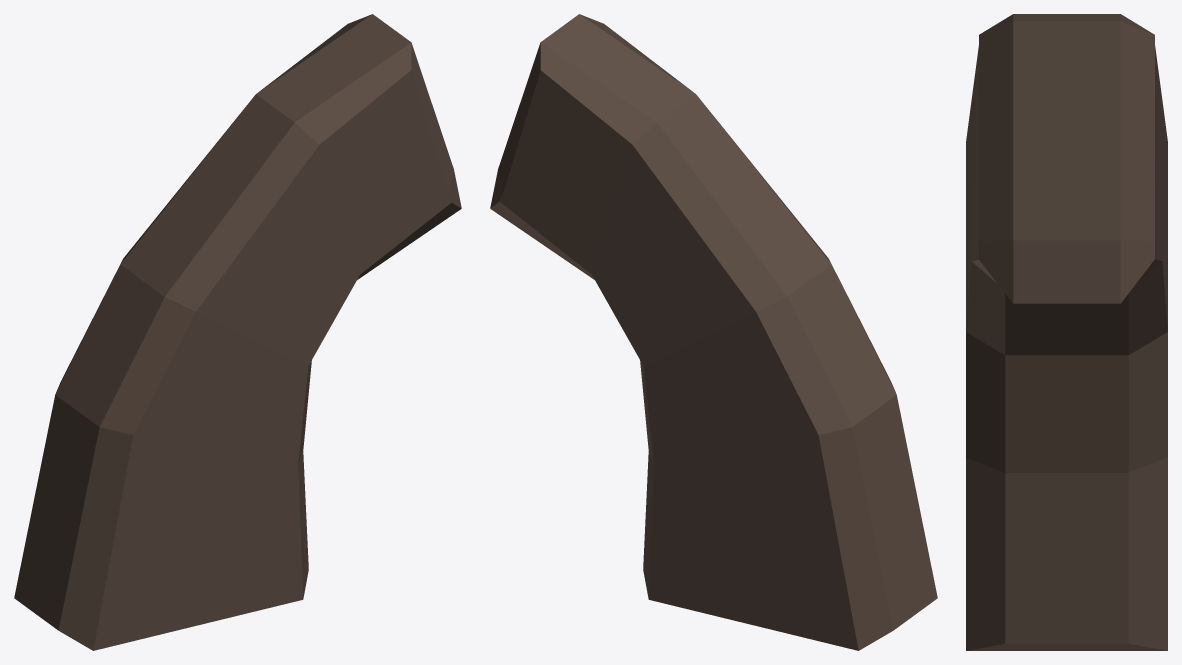
File: wood.glb
3 views of the same model, side by side, from view 1: azimuth 30°, elevation 25°; view 2: azimuth 150°, elevation 25°; view 3: azimuth 270°, elevation 25° (orthographic). The views are drawn at different scales.
Visible parts, largest first — view 1: Revolver_1.002; view 2: Revolver_1.002; view 3: Revolver_1.002.
Part boxes in pixels (x1,y1,x2,y2): Revolver_1.002: (14, 14, 461, 650); Revolver_1.002: (490, 14, 937, 650); Revolver_1.002: (966, 14, 1167, 650).
Bounding box in the file's own units: 0.5055 × 0.6119 × 0.1568.
